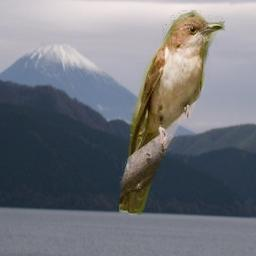Cuckoo: (119, 11, 225, 216)
